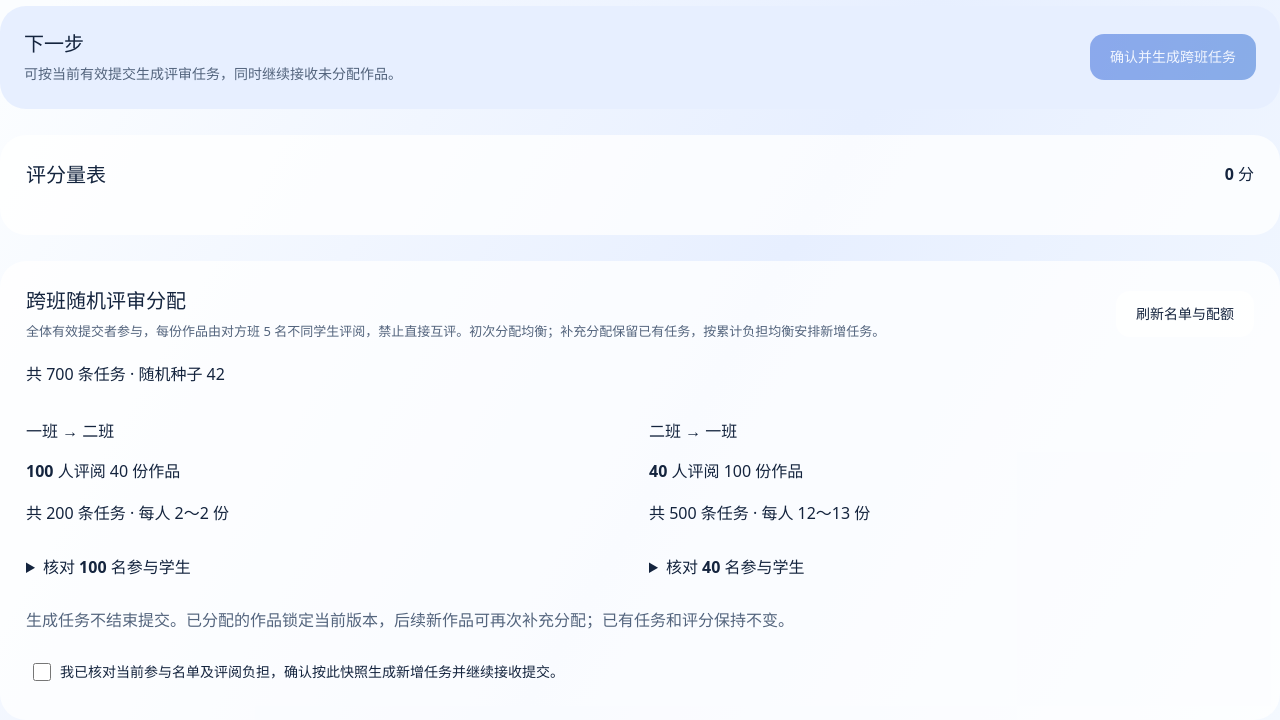
Test: 跨班分配确认 › 展示实际两班人数和不同任务配额，不再提供固定五人选择
(page scrolled)
Expected: the button "确认并生成跨班任务" is disabled, [1090,34,1256,80]
Click the checkbox labelled "我已核对当前参与名单及评阅负担，确认按此快照生成新增任务并继续接收提交。" at (42,672), box [33,663,51,681]
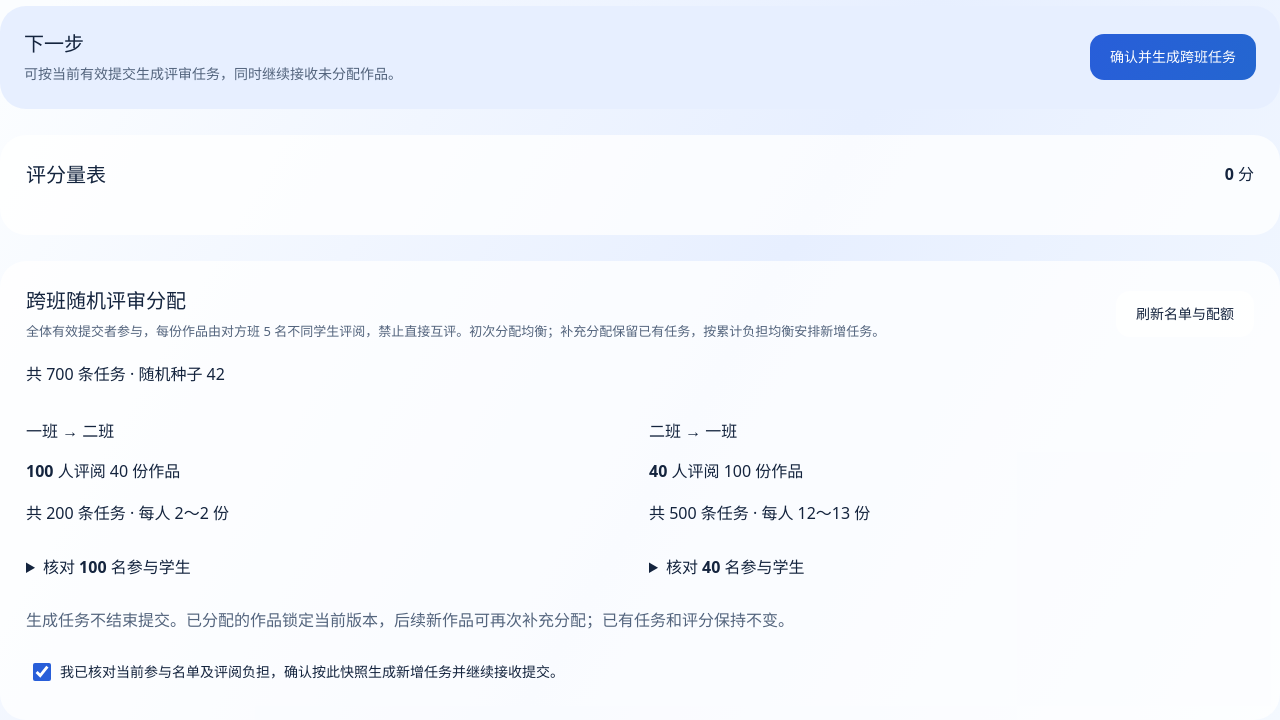
Click the button "确认并生成跨班任务" at (1173,57), box [1090,34,1256,80]
(page scrolled)
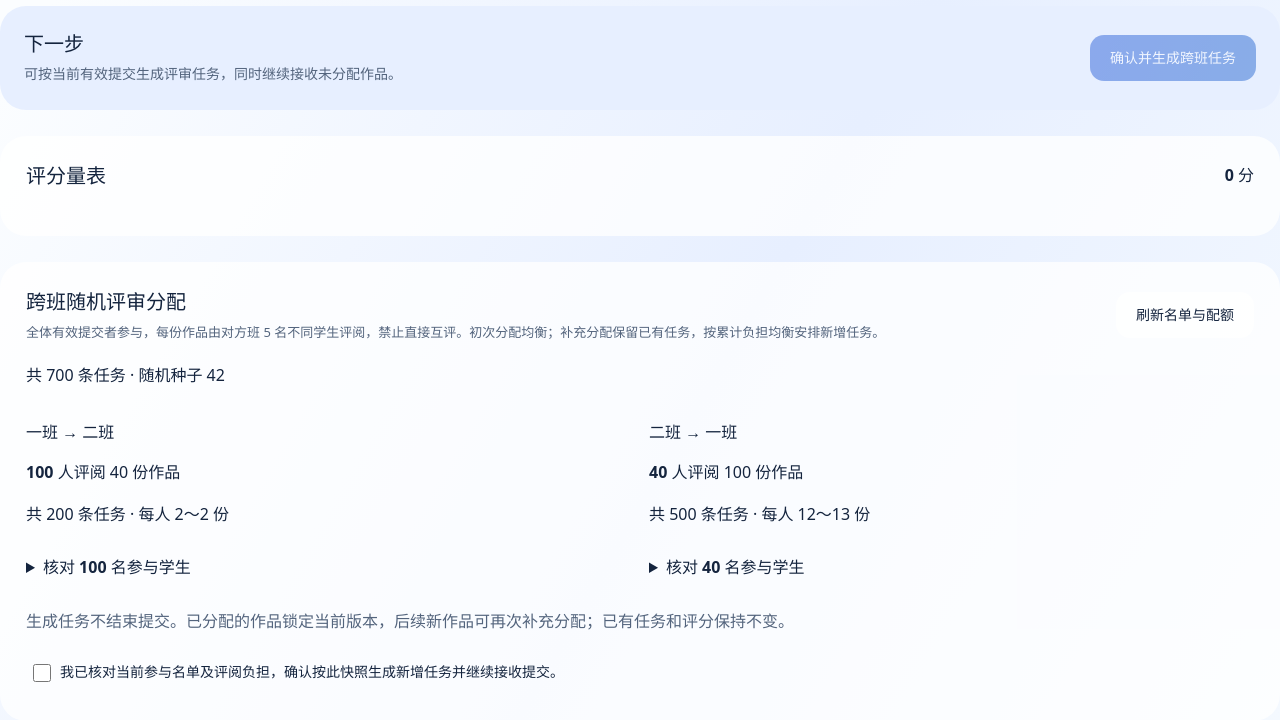
Expected: the text "共 700 条" is shown, [26,364,225,386]
Now the checkbox labelled "我已核对当前参与名单及评阅负担，确认按此快照生成新增任务并继续接收提交。" is not checked, box [33,664,51,682]
